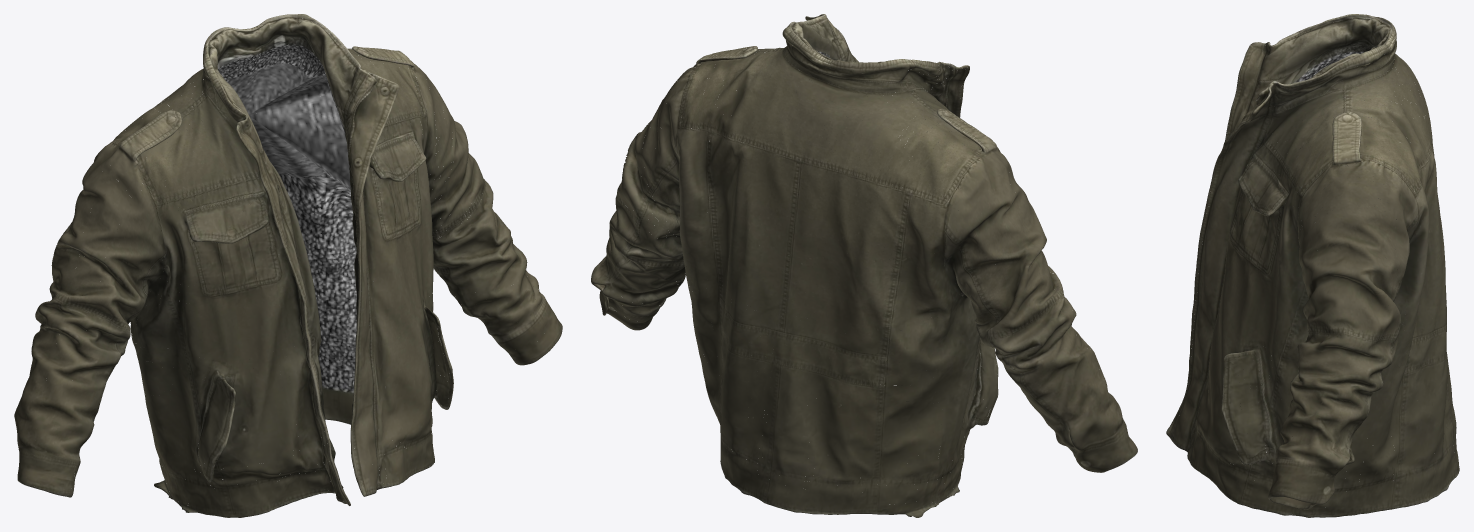
The picture shows the model from 3 angles, left to right: view 1: azimuth 30°, elevation 25°; view 2: azimuth 150°, elevation 25°; view 3: azimuth 270°, elevation 25°; orthographic projection.
Visible parts, largest first — view 1: ArmyJacket_MidRez.001; view 2: ArmyJacket_MidRez.001; view 3: ArmyJacket_MidRez.001.
Boxes of the visible parts, x1,y1,x2,y2 form: ArmyJacket_MidRez.001: (14,14,562,517); ArmyJacket_MidRez.001: (591,14,1137,517); ArmyJacket_MidRez.001: (1166,14,1459,517).
Size of the model in its own units: 16.11 by 12.85 by 7.66.
Materials: 1 (1 with a texture image).
